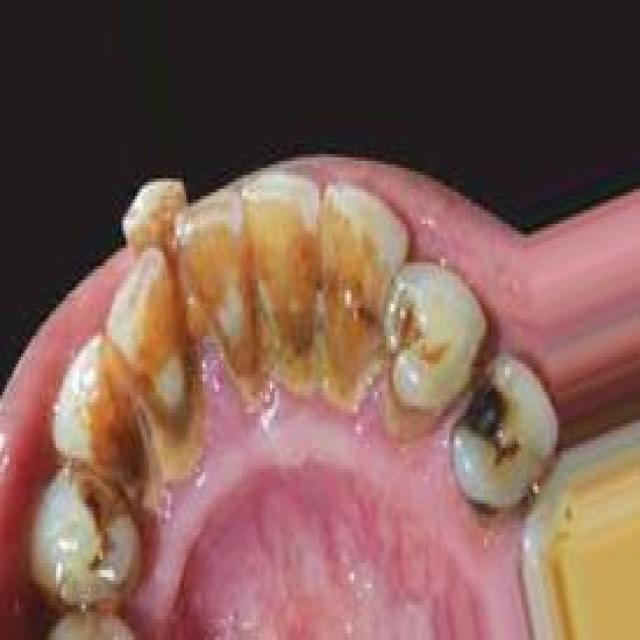caries: (452, 368, 526, 476), (69, 488, 124, 580), (387, 294, 449, 373)
